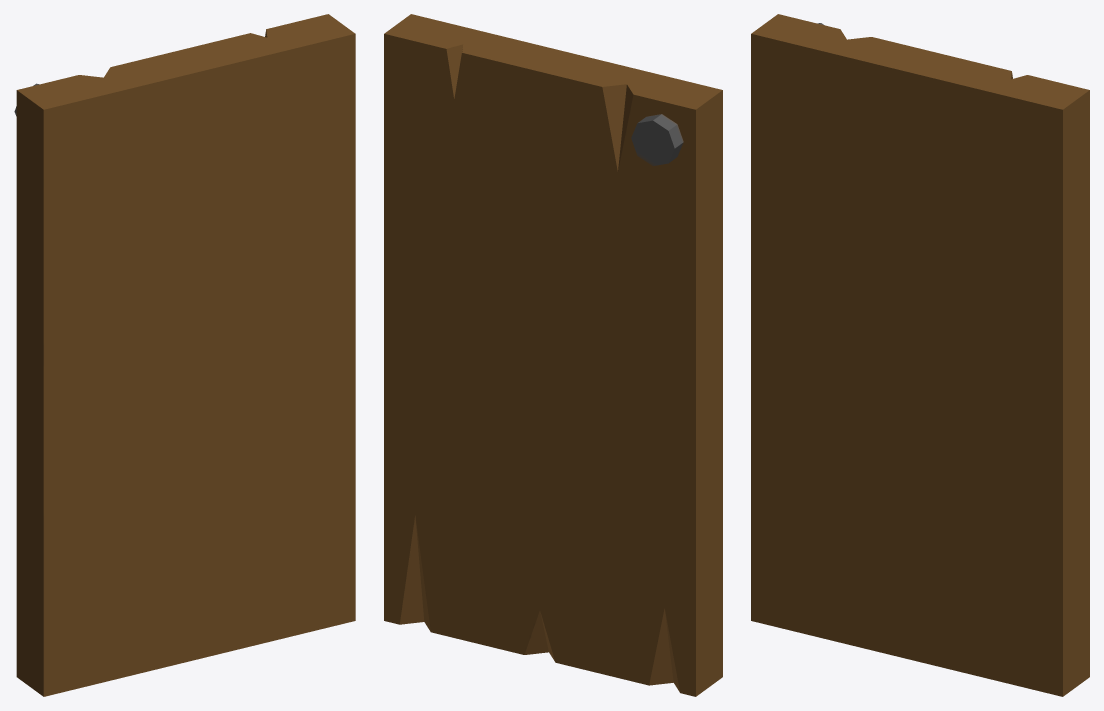
Rendered from Quest4Board.fbx.
3 views of the same model, side by side, from view 1: azimuth 30°, elevation 25°; view 2: azimuth 150°, elevation 25°; view 3: azimuth 330°, elevation 25° (orthographic).
Visible parts, largest first — view 1: OrganDoor; view 2: OrganDoor; view 3: OrganDoor.
Boxes of the visible parts, x1,y1,x2,y2 form: OrganDoor: [14, 14, 355, 696]; OrganDoor: [384, 14, 722, 696]; OrganDoor: [751, 14, 1089, 696].
Size of the model in its own units: 20 by 36 by 4.3.
